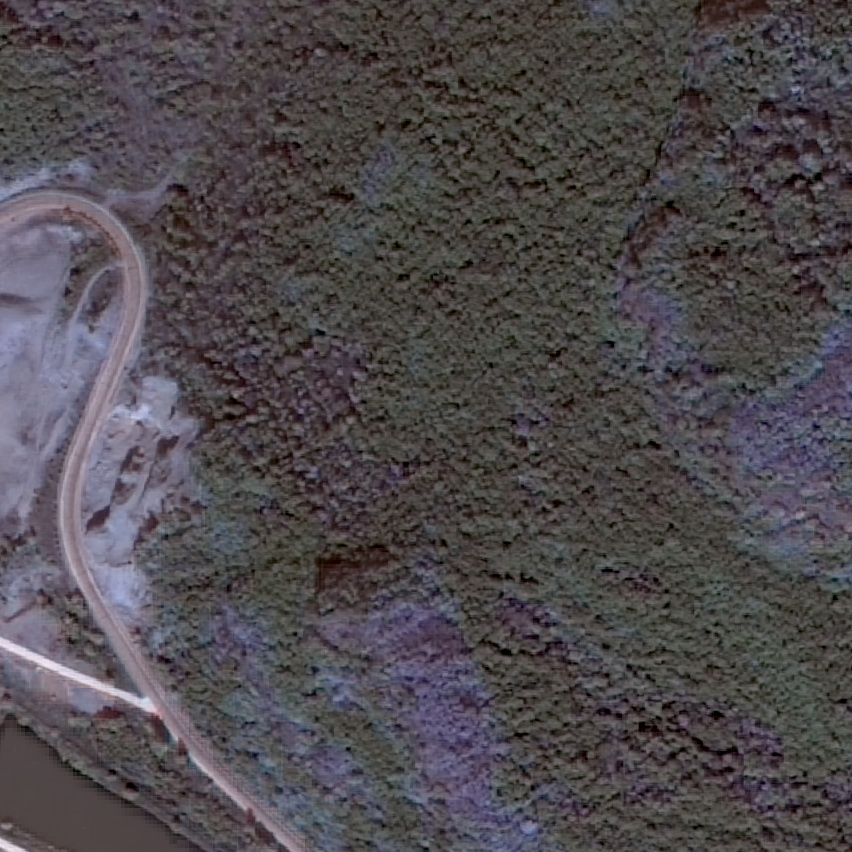slope: (0, 226, 101, 671), (77, 366, 201, 628)
